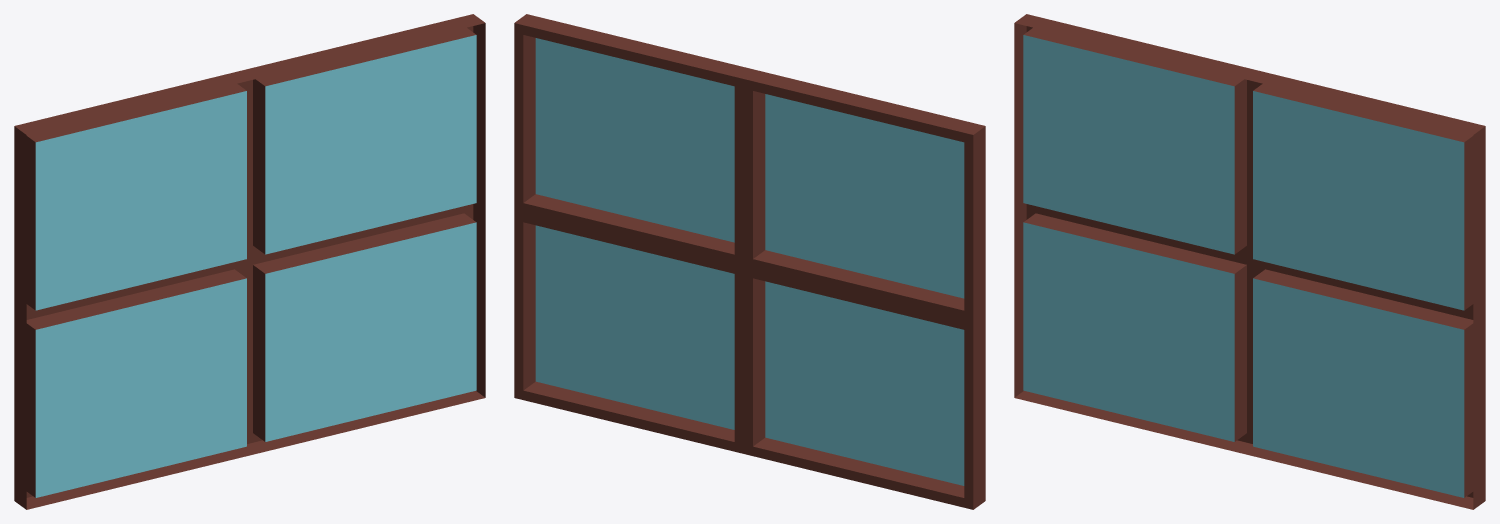
The model's file is Window.fbx.
The picture shows the model from 3 angles, left to right: view 1: azimuth 30°, elevation 25°; view 2: azimuth 150°, elevation 25°; view 3: azimuth 330°, elevation 25°; orthographic projection.
Visible parts, largest first — view 1: Window; view 2: Window; view 3: Window.
Part boxes in pixels (x1=…): Window: x1=14, y1=14, x2=485, y2=509; Window: x1=514, y1=14, x2=985, y2=509; Window: x1=1014, y1=14, x2=1485, y2=509.
Size of the model in its own units: 3011 by 2350 by 140.
